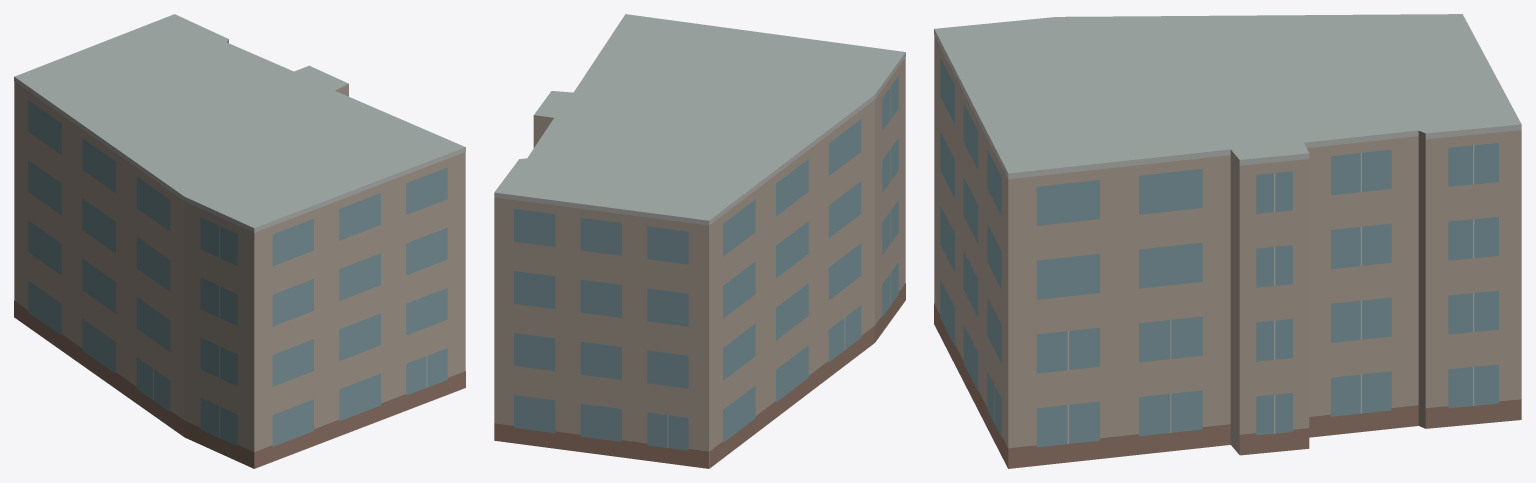
File: survey-upis-33011887.glb
The picture shows the model from 3 angles, left to right: view 1: azimuth 30°, elevation 25°; view 2: azimuth 150°, elevation 25°; view 3: azimuth 270°, elevation 25°; orthographic projection. The views are drawn at different scales.
Parts seen in each view (by area): view 1: survey-upis-33011887.tmp; view 2: survey-upis-33011887.tmp; view 3: survey-upis-33011887.tmp.
Boxes of the visible parts, <box> form: survey-upis-33011887.tmp: <box>14,14,465,468</box>; survey-upis-33011887.tmp: <box>494,14,905,468</box>; survey-upis-33011887.tmp: <box>934,14,1521,468</box>.
Size of the model in its own units: 14.6 by 12.6 by 22.73.
